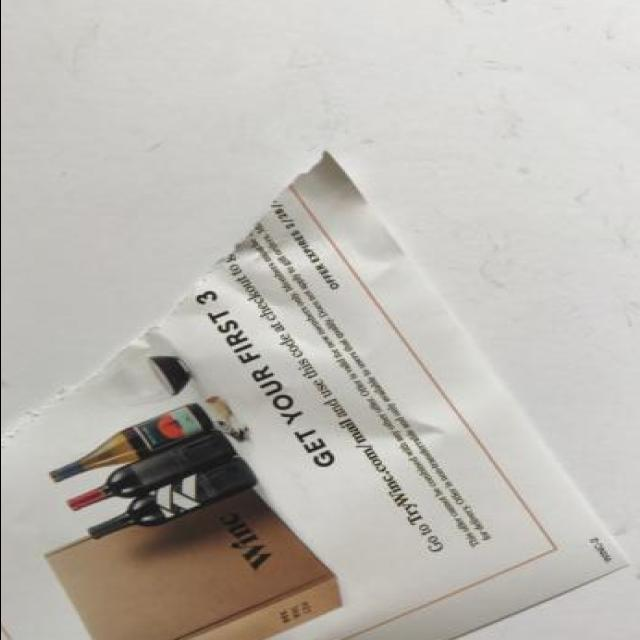kertas: (0, 149, 628, 640)
